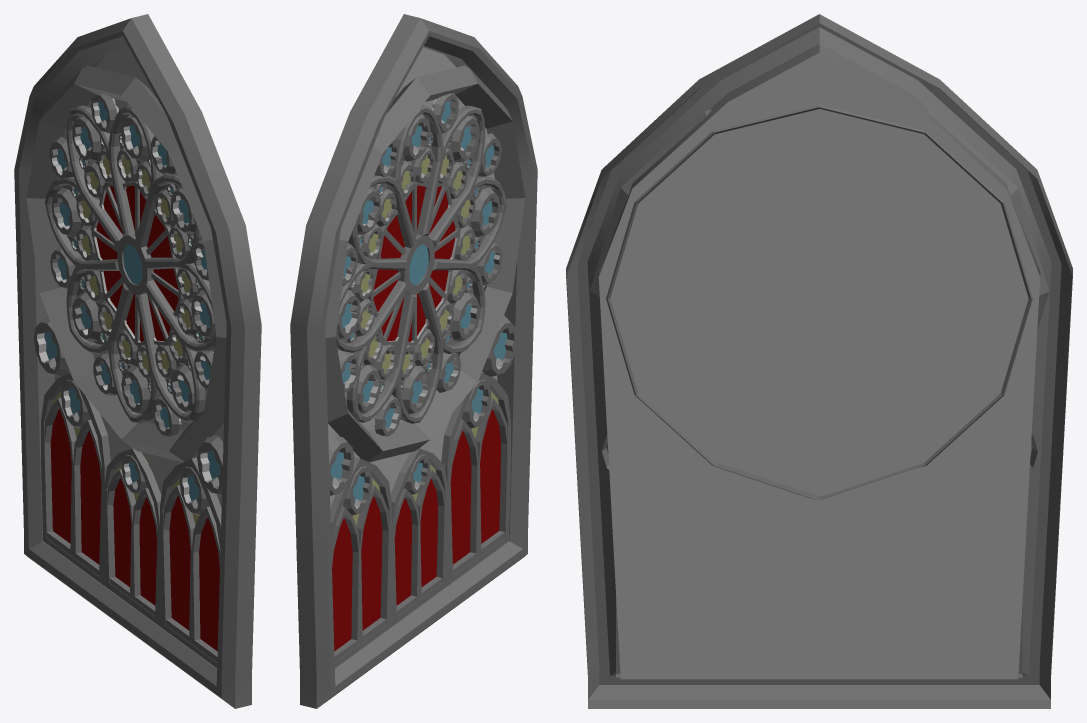
The model's file is roseWindowUV_BeveledEdge.fbx.
3 views of the same model, side by side, from view 1: azimuth 30°, elevation 25°; view 2: azimuth 150°, elevation 25°; view 3: azimuth 270°, elevation 25° (orthographic). The views are drawn at different scales.
Visible parts, largest first — view 1: FINISHREOSE16; view 2: FINISHREOSE16; view 3: FINISHREOSE16.
Part boxes in pixels (x1,y1,x2,y2): FINISHREOSE16: (14,14,261,708); FINISHREOSE16: (290,14,537,708); FINISHREOSE16: (566,14,1072,708).
Bounding box in the file's own units: 0.00457 × 0.0962 × 0.0644.
